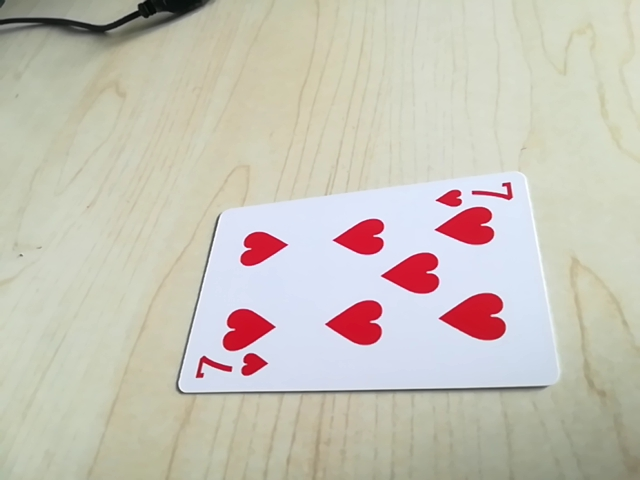hx 7: (433, 178, 520, 209), (192, 353, 271, 387)
